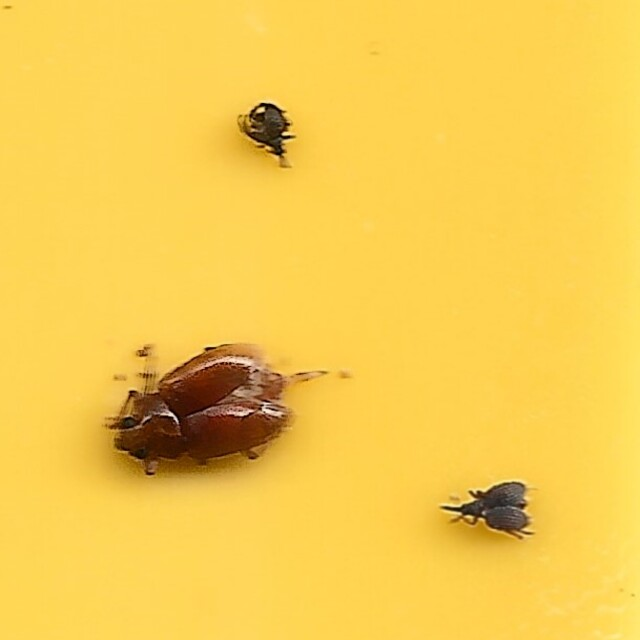Coleoptera: (105, 339, 301, 470), (437, 481, 535, 541), (234, 99, 298, 166)
